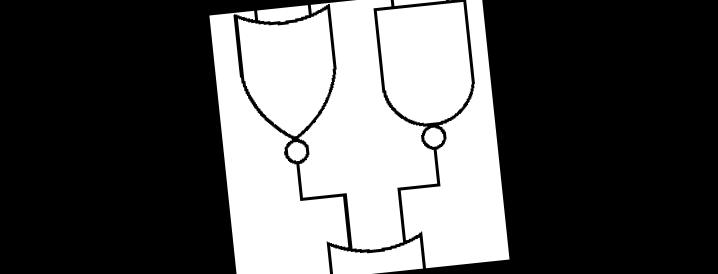nand: (366, 0, 487, 163)
nor: (224, 2, 352, 178), (316, 223, 431, 274)
